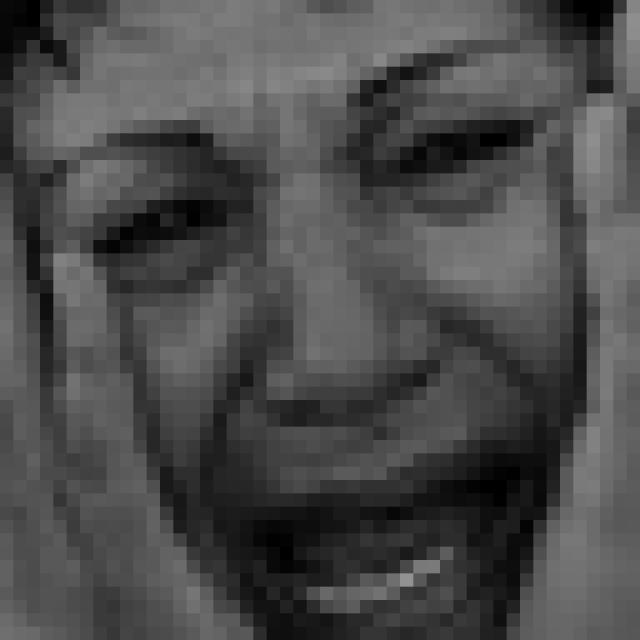sad: (53, 25, 600, 636)
